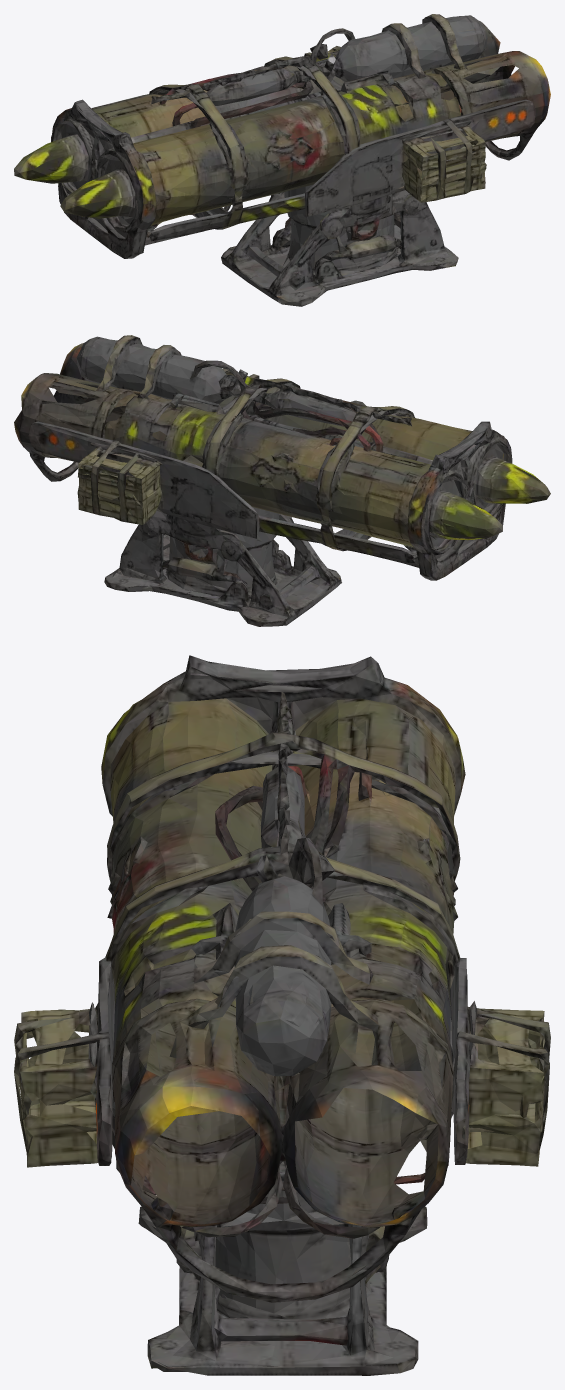
Rendered from 05_纜帶綁掛魚雷管.glb.
The picture shows the model from 3 angles, top to bottom: view 1: azimuth 30°, elevation 25°; view 2: azimuth 150°, elevation 25°; view 3: azimuth 270°, elevation 25°; orthographic projection. The views are drawn at different scales.
Visible parts, largest first — view 1: part_1; view 2: part_1; view 3: part_1.
Boxes of the visible parts, x1,y1,x2,y2 form: part_1: (14, 14, 550, 306); part_1: (14, 335, 550, 626); part_1: (14, 655, 550, 1375).
Size of the model in its own units: 0.9971 by 0.4568 by 0.4945.
1 material, 1 textured.
